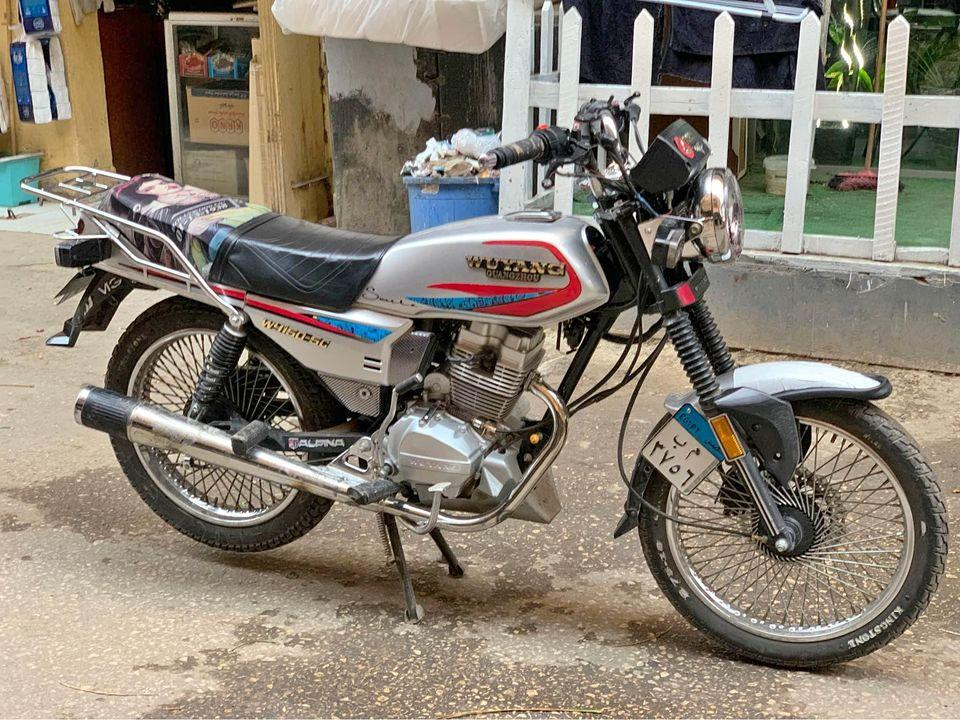License Plate: (639, 408, 724, 489)
